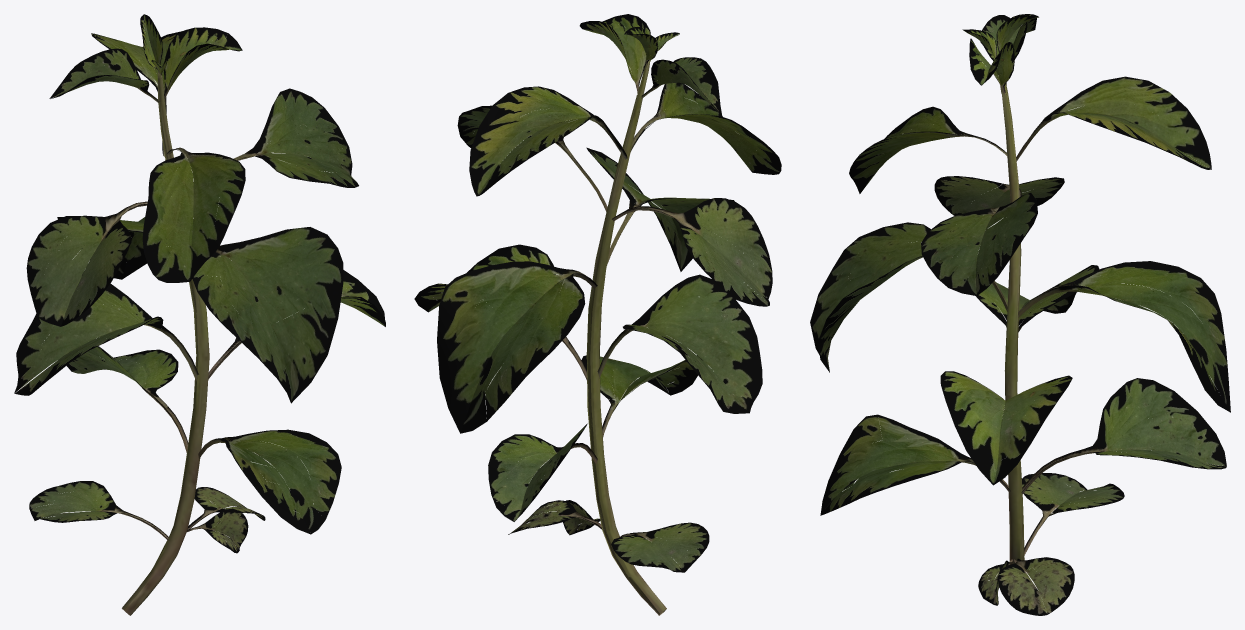
File: nettle_plant_1.gltf
The picture shows the model from 3 angles, left to right: view 1: azimuth 30°, elevation 25°; view 2: azimuth 150°, elevation 25°; view 3: azimuth 270°, elevation 25°; orthographic projection. The views are drawn at different scales.
Parts seen in each view (by area): view 1: nettle_plant_medium_b_LOD0; view 2: nettle_plant_medium_b_LOD0; view 3: nettle_plant_medium_b_LOD0.
Part boxes in pixels (bbox=[...]): nettle_plant_medium_b_LOD0: bbox=[14, 14, 385, 615]; nettle_plant_medium_b_LOD0: bbox=[414, 14, 781, 615]; nettle_plant_medium_b_LOD0: bbox=[810, 14, 1230, 615].
Size of the model in its own units: 0.0655 by 0.1046 by 0.0662.
1 material, 1 textured.
